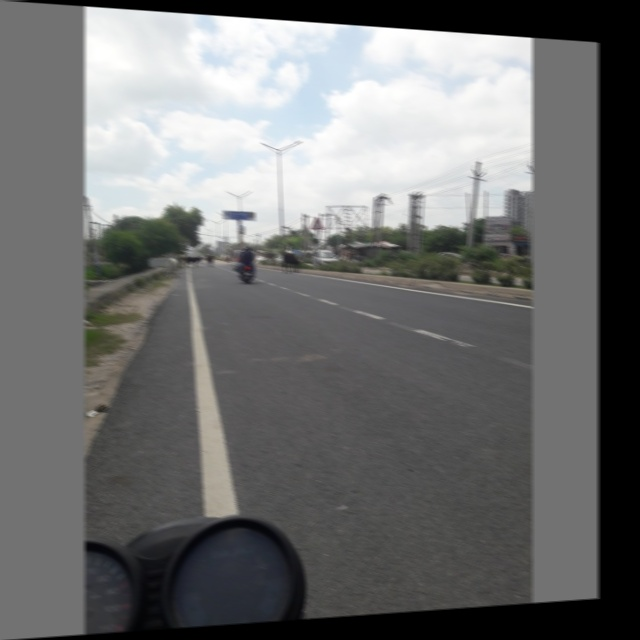Gap_in_Median: (307, 214, 326, 232)
